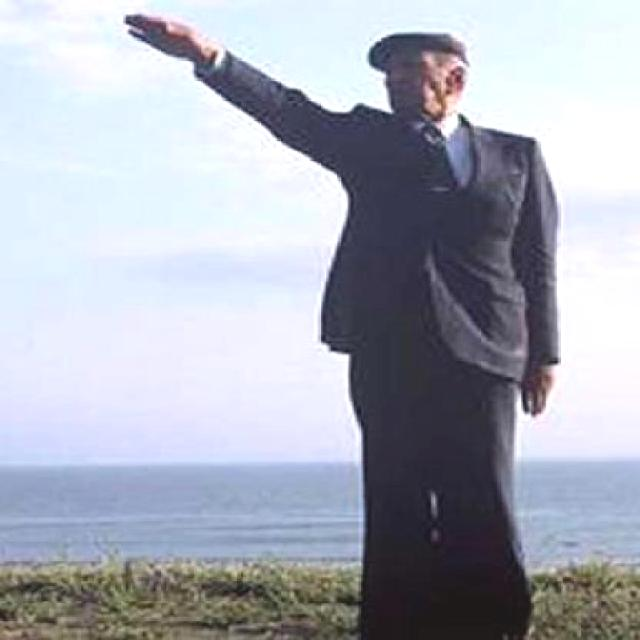face_nomask: (382, 56, 438, 121)
hand_noglove: (122, 10, 209, 68), (515, 363, 557, 422)
head_nohelmet: (366, 22, 474, 64)
person: (280, 3, 589, 640)
